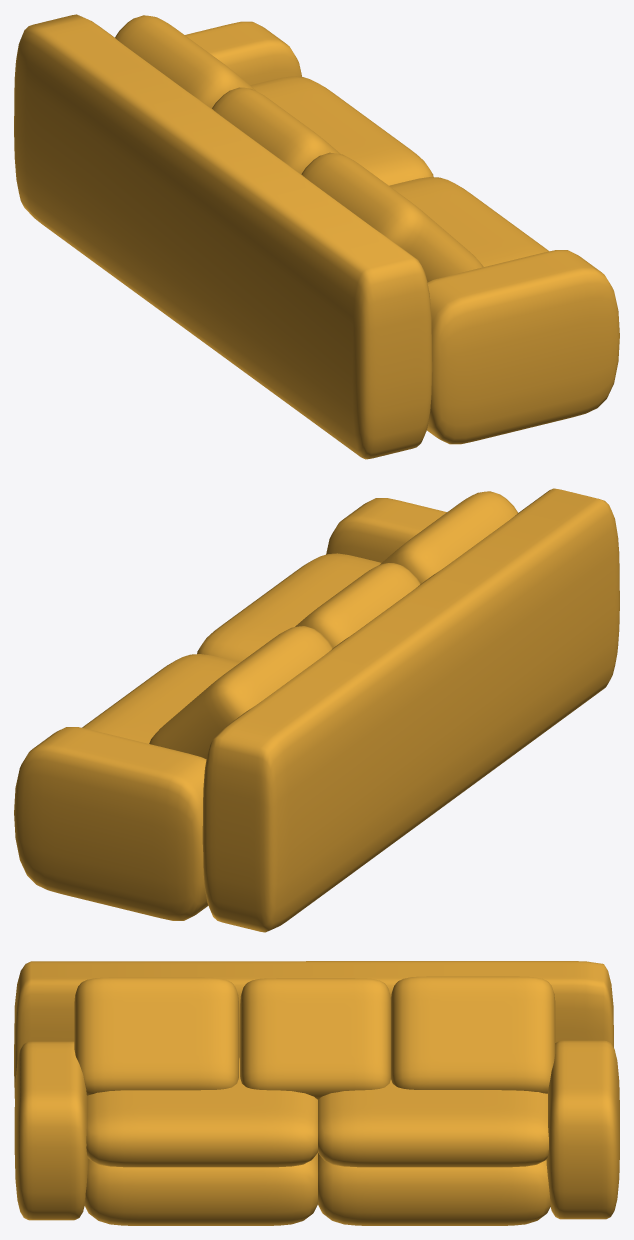
Rendered from couch.fbx.
3 renders of one model, top to bottom at view 1: azimuth 30°, elevation 25°; view 2: azimuth 150°, elevation 25°; view 3: azimuth 270°, elevation 25°, orthographic. The views are drawn at different scales.
Parts seen in each view (by area): view 1: Cube.006, Cube.005, Cube.009, Cube.002, Cube.003, Cube.007, Cube.008, Cube.004; view 2: Cube.006, Cube.004, Cube.007, Cube.003, Cube.002, Cube.009, Cube.005, Cube.008; view 3: Cube.007, Cube.006, Cube.009, Cube.003, Cube.002, Cube.008, Cube.001, Cube, Cube.004, Cube.005.
Part boxes in pixels (x1,y1,x2,y2): Cube.006: (14, 14, 432, 459); Cube.005: (427, 250, 619, 444); Cube.009: (301, 152, 483, 282); Cube.002: (250, 76, 433, 185); Cube.003: (389, 177, 548, 266); Cube.007: (115, 15, 255, 108); Cube.008: (212, 87, 340, 173); Cube.004: (185, 21, 301, 85); Cube.006: (202, 488, 619, 932); Cube.004: (14, 727, 208, 920); Cube.007: (149, 626, 332, 759); Cube.003: (197, 553, 380, 662); Cube.002: (82, 654, 239, 743); Cube.009: (380, 491, 517, 583); Cube.005: (326, 498, 446, 562); Cube.008: (295, 563, 420, 647); Cube.007: (391, 976, 555, 1093); Cube.006: (14, 961, 613, 1098); Cube.009: (74, 977, 238, 1095); Cube.003: (86, 1057, 317, 1167); Cube.002: (318, 1080, 548, 1167); Cube.008: (240, 978, 390, 1099); Cube.001: (84, 1153, 317, 1225); Cube: (318, 1153, 550, 1225); Cube.004: (546, 1040, 619, 1219); Cube.005: (14, 1041, 88, 1220).
Bounding box in the file's own units: 270 × 215 × 629.
